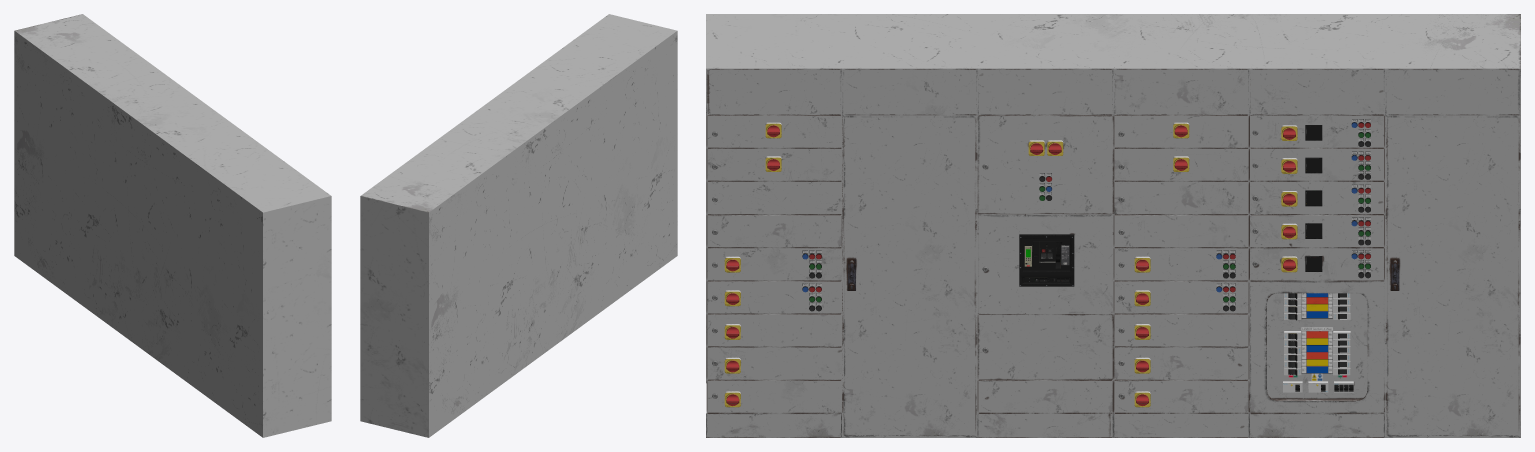
Rendered from electricexport.fbx.
3 renders of one model, left to right at view 1: azimuth 30°, elevation 25°; view 2: azimuth 150°, elevation 25°; view 3: azimuth 270°, elevation 25°, orthographic. The views are drawn at different scales.
Visible parts, largest first — view 1: BPanel; view 2: BPanel; view 3: BPanel.
Boxes of the visible parts, x1=… form: BPanel: x1=14, y1=14, x2=331, y2=437; BPanel: x1=360, y1=14, x2=677, y2=437; BPanel: x1=706, y1=14, x2=1520, y2=437.
Bounding box in the file's own units: 102 × 300 × 600.
